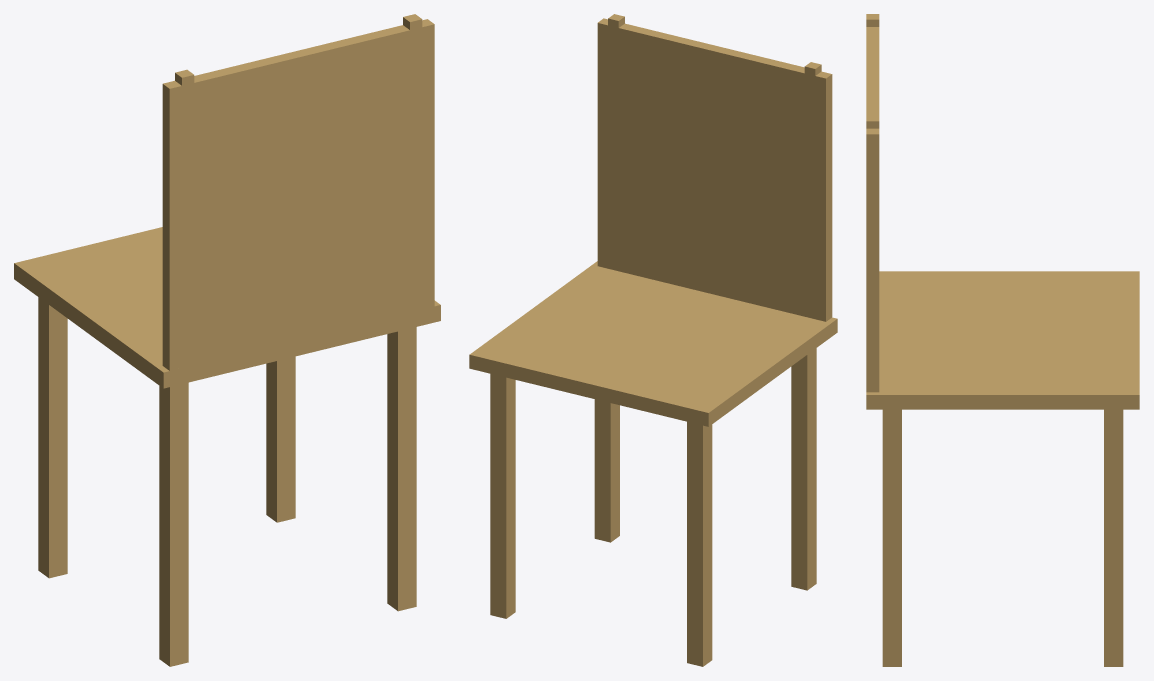
3 renders of one model, left to right at view 1: azimuth 30°, elevation 25°; view 2: azimuth 150°, elevation 25°; view 3: azimuth 270°, elevation 25°, orthographic. The views are drawn at different scales.
Size of the model in its own units: 0.45 by 0.9225 by 0.42.
